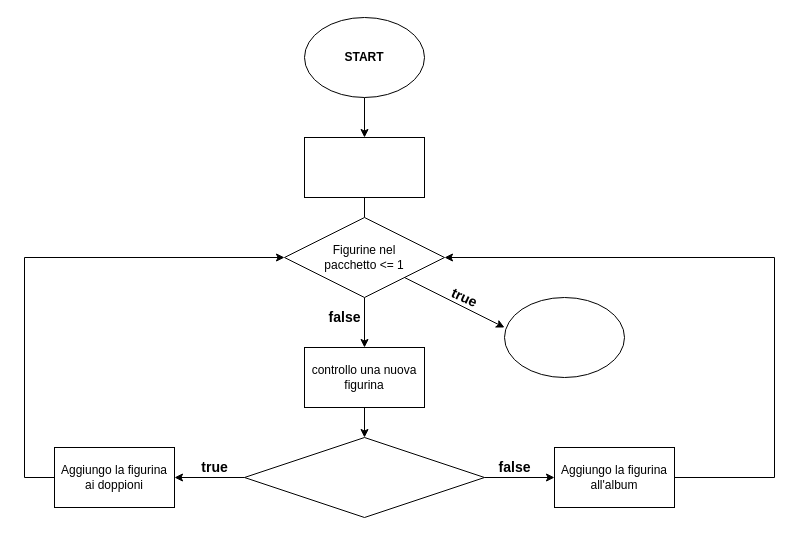
Some shapes in this 800 by 535 pixel diagram are drawn without their labels. The shapes that lost their labels are listed below. From the top down, each one's centre as x and y in pixels, then its label:
At (x=364, y=167): "Apro pacchetto".
At (x=564, y=337): "END".
At (x=364, y=477): "La figurina è presente in Album".
